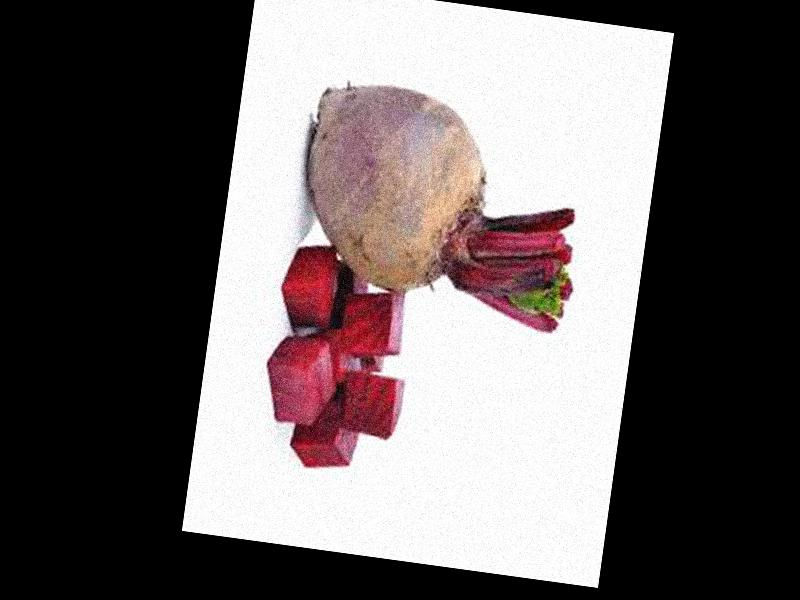Beet: (288, 77, 594, 334)
